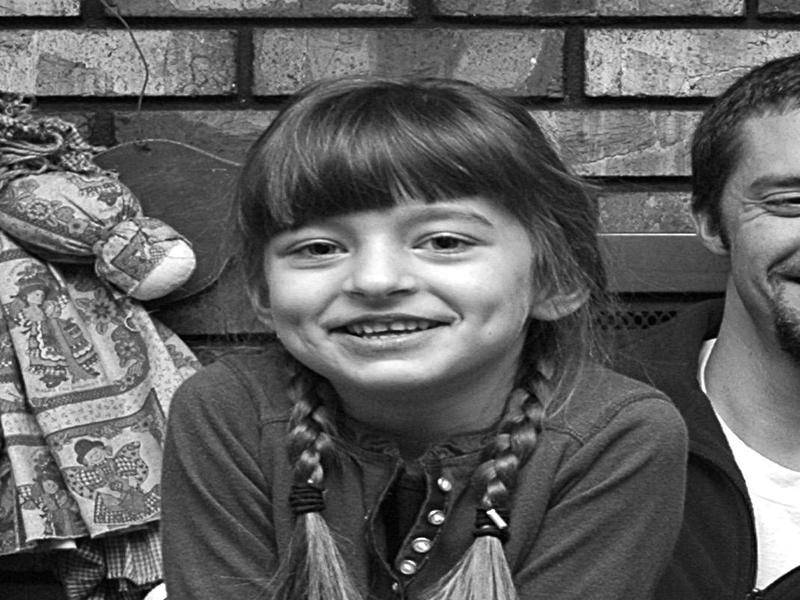person: (157, 78, 692, 600), (617, 46, 799, 600)
